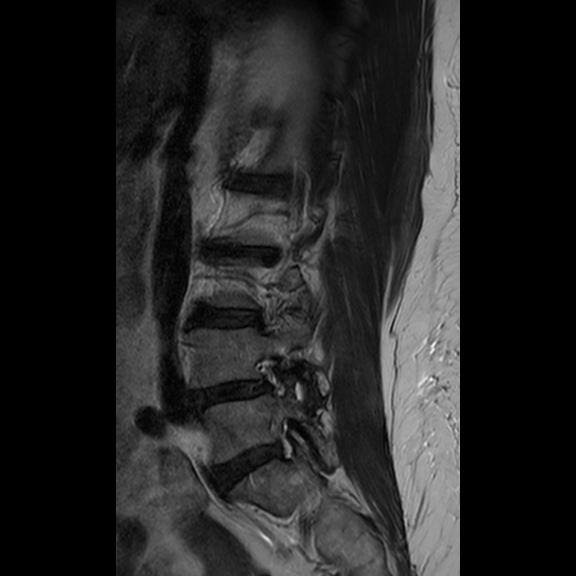RFS1: (242, 345, 299, 406)
